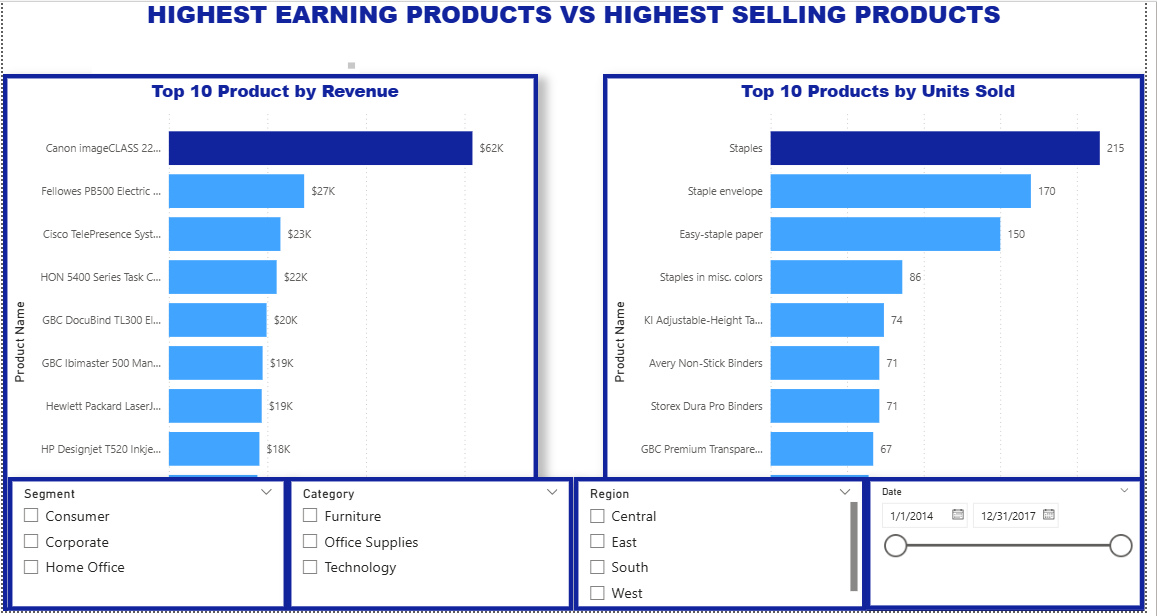

What the dashboard file says about the page in this screenshot:
{"tool":"powerbi","page":{"name":"Products","canvas":[1280,720],"ordinal":1},"visuals":[{"type":"clusteredBarChart","title":"Top 10 Product by Revenue","fields":{"Category":["Orders.Product Name"],"Y":["Dates.Total Revenue"]},"box":[0,117.3,600,602.7],"z":0},{"type":"clusteredBarChart","title":"Top 10 Products by Units Sold","fields":{"Category":["Orders.Product Name"],"Y":["Dates.Total Quantity"]},"box":[673.3,117.3,606.7,602.7],"z":1000},{"type":"textbox","box":[100,100,300,17.3],"z":2000},{"type":"textbox","box":[0,26.7,1280,64],"z":3000},{"type":"slicer","fields":{"Values":["Orders.Segment"]},"box":[5.1,569.3,313.6,150.4],"z":4000},{"type":"slicer","fields":{"Values":["Orders.Category"]},"box":[318.7,569.3,321.3,150.4],"z":5000},{"type":"slicer","fields":{"Values":["Orders.Region"]},"box":[640,569.3,327.7,150.4],"z":6000},{"type":"slicer","fields":{"Values":["Dates.Date"]},"box":[967.7,569.3,312.3,149.1],"z":7000}]}

Visuals, with their boxes on the page's 1280x720 design canvas (x1, y1, x2, y2). These are canvas units, not pixel positions in the 1157x616 screenshot, which may show the page scaled, cropped or inside an application window:
"Top 10 Product by Revenue" clusteredBarChart: <bbox>0, 117, 600, 720</bbox>
"Top 10 Products by Units Sold" clusteredBarChart: <bbox>673, 117, 1280, 720</bbox>
textbox: <bbox>100, 100, 400, 117</bbox>
textbox: <bbox>0, 27, 1280, 91</bbox>
slicer - Orders.Segment: <bbox>5, 569, 319, 720</bbox>
slicer - Orders.Category: <bbox>319, 569, 640, 720</bbox>
slicer - Orders.Region: <bbox>640, 569, 968, 720</bbox>
slicer - Dates.Date: <bbox>968, 569, 1280, 718</bbox>
